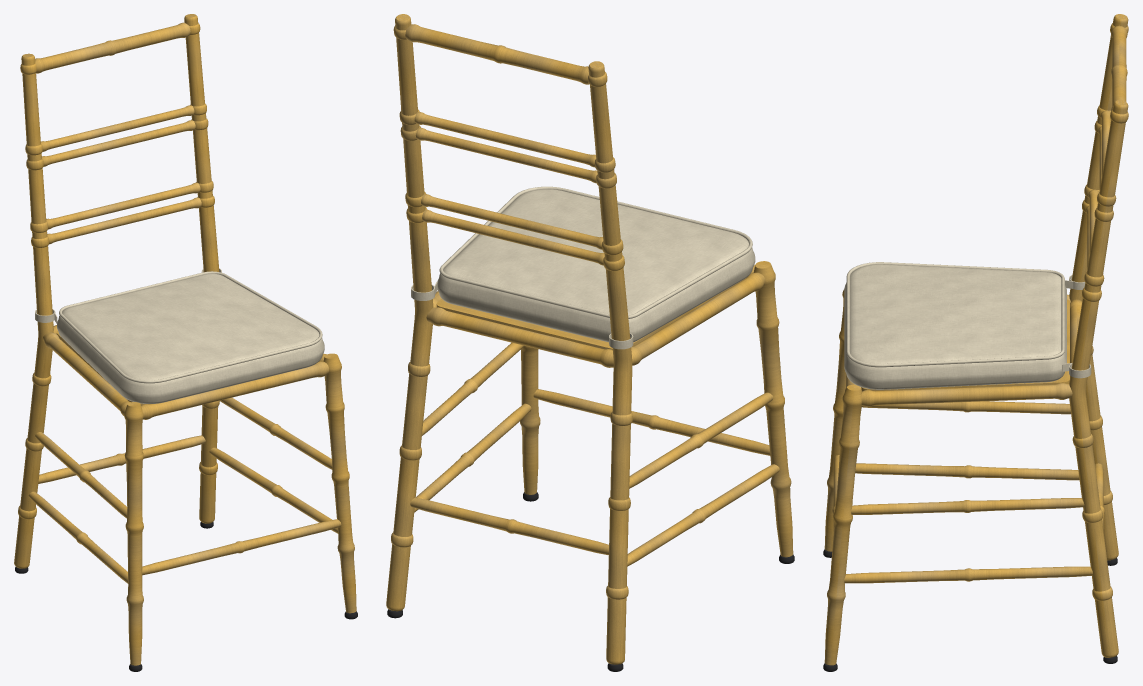
The model's file is chiavari_gold_chair.glb.
3 renders of one model, left to right at view 1: azimuth 30°, elevation 25°; view 2: azimuth 150°, elevation 25°; view 3: azimuth 270°, elevation 25°, orthographic. The views are drawn at different scales.
Visible parts, largest first — view 1: Chiavari frame (gold paint on beech), Seat cushion (ivory), Cushion welt piping; view 2: Chiavari frame (gold paint on beech), Seat cushion (ivory), Cushion welt piping, Seat panel; view 3: Chiavari frame (gold paint on beech), Seat cushion (ivory), Cushion welt piping, Seat panel.
Part boxes in pixels (x1,y1,x2,y2): Chiavari frame (gold paint on beech): [14, 14, 356, 665]; Seat cushion (ivory): [57, 273, 324, 403]; Cushion welt piping: [59, 271, 322, 383]; Chiavari frame (gold paint on beech): [386, 14, 793, 664]; Seat cushion (ivory): [437, 189, 755, 342]; Cushion welt piping: [439, 186, 752, 318]; Seat panel: [436, 277, 746, 349]; Chiavari frame (gold paint on beech): [824, 14, 1128, 665]; Seat cushion (ivory): [844, 264, 1066, 389]; Cushion welt piping: [846, 262, 1064, 367]; Seat panel: [861, 299, 1069, 391].
Bounding box in the file's own units: 0.4216 × 0.9043 × 0.4523.
3 materials, 3 textured.
